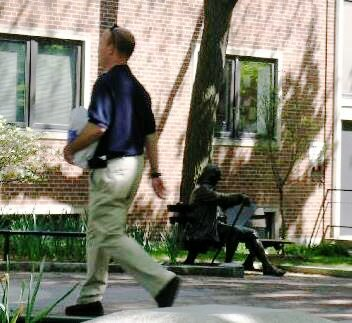person: (64, 25, 182, 307)
